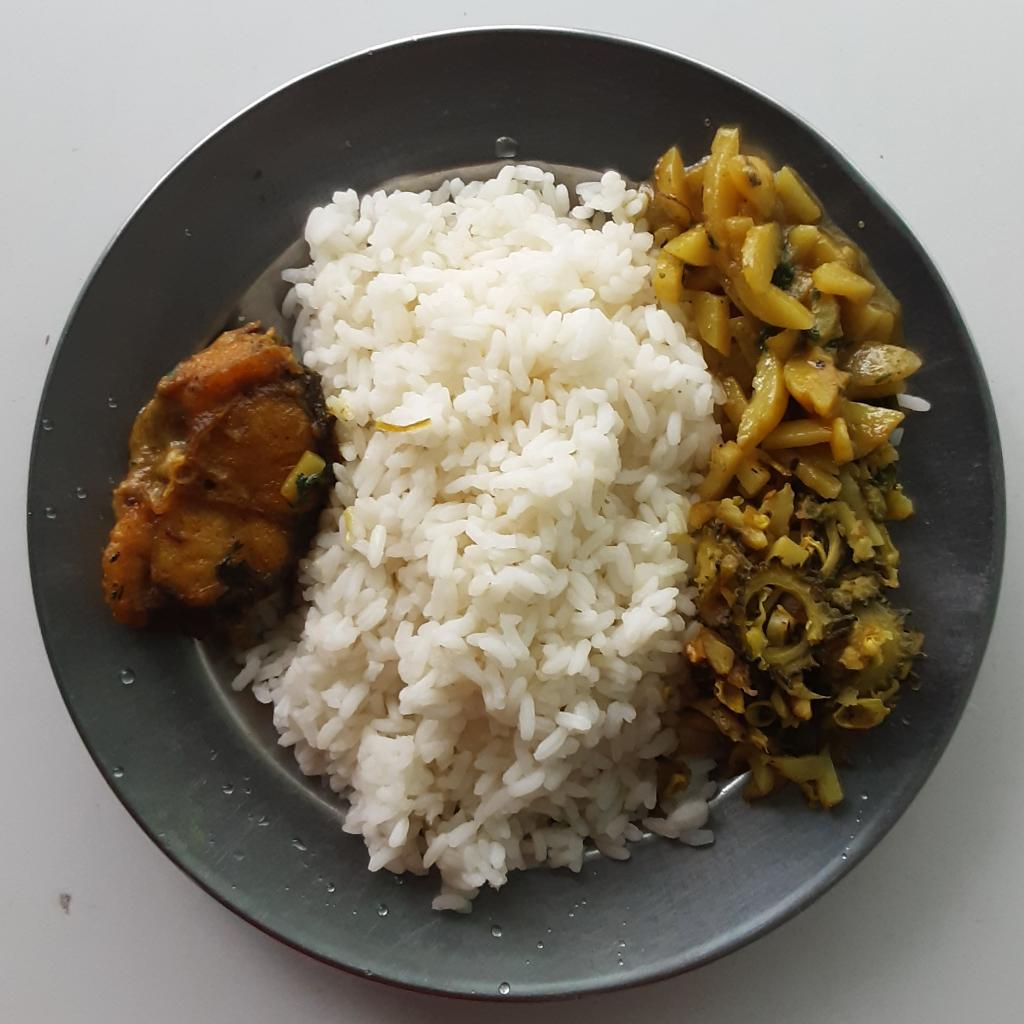fish: (100, 315, 333, 628)
korola-vaji: (678, 455, 931, 809)
potato: (650, 124, 935, 488)
rice: (221, 151, 718, 920)
